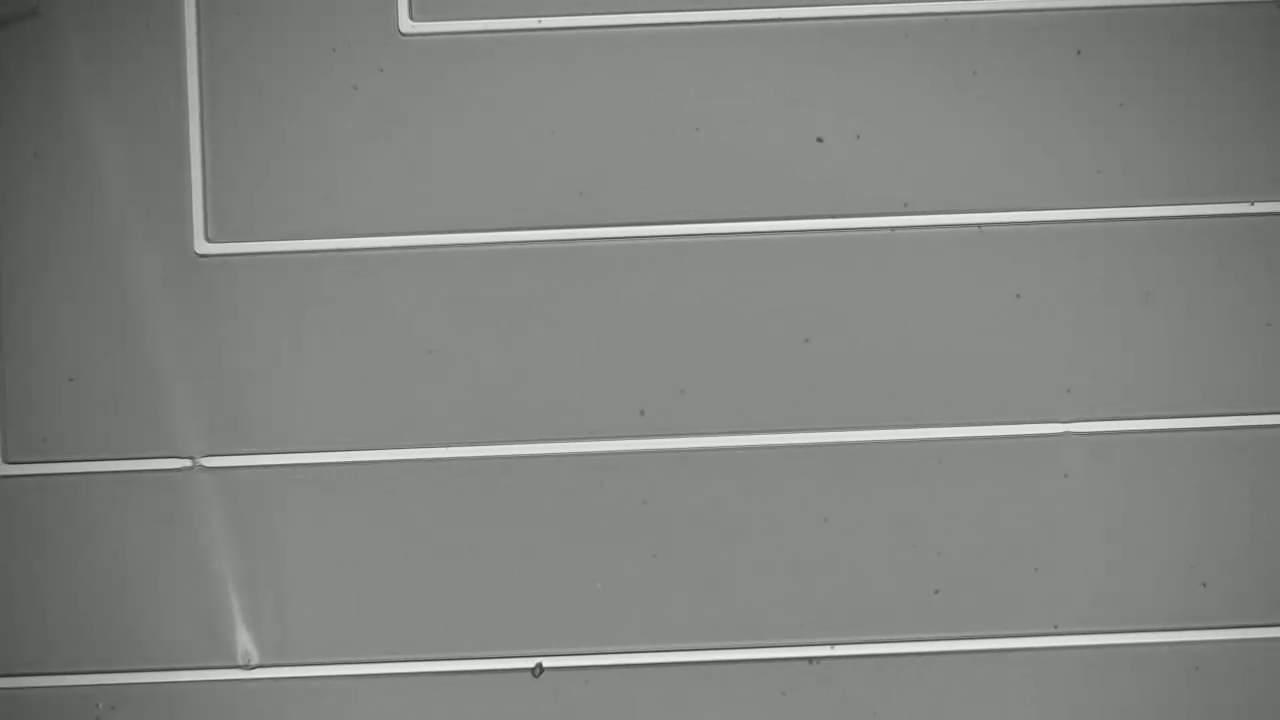open: (169, 443, 225, 480)
stains_enbedded: (516, 637, 557, 684)
